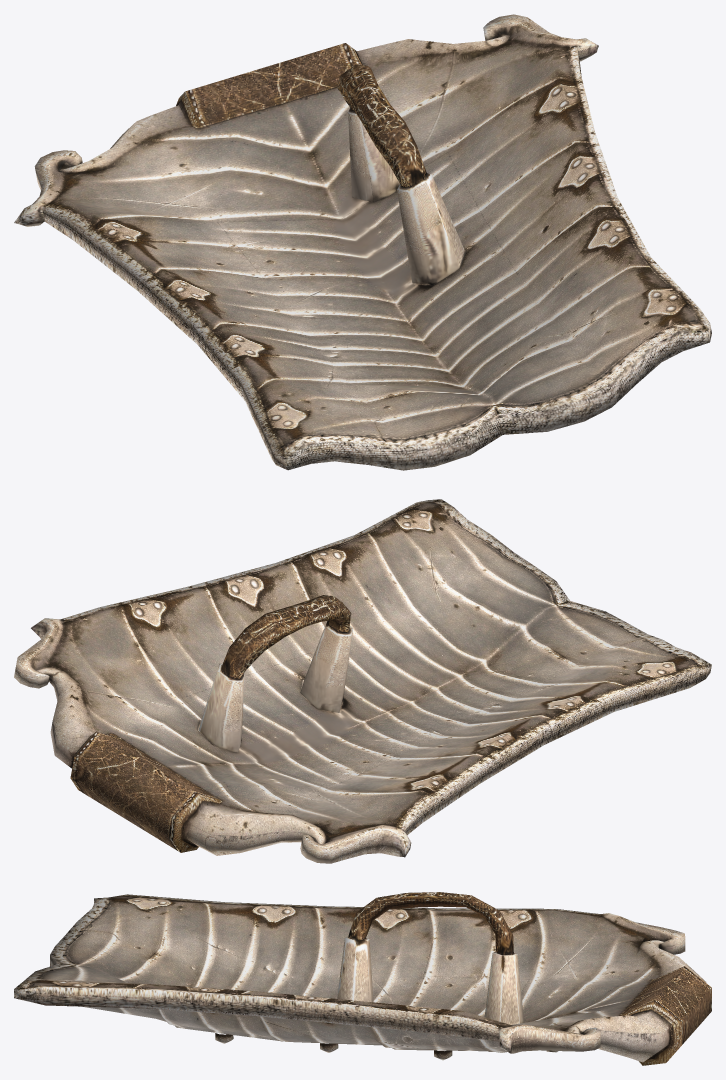
The model's file is s_steelshield_t1.glb.
3 renders of one model, top to bottom at view 1: azimuth 30°, elevation 25°; view 2: azimuth 150°, elevation 25°; view 3: azimuth 270°, elevation 25°, orthographic. The views are drawn at different scales.
Parts seen in each view (by area): view 1: Shield:2; view 2: Shield:2; view 3: Shield:2.
Boxes of the visible parts, x1=… form: Shield:2: x1=14, y1=14, x2=711, y2=470; Shield:2: x1=14, y1=499, x2=711, y2=863; Shield:2: x1=14, y1=892, x2=711, y2=1065.
Bounding box in the file's own units: 36.49 × 12.96 × 47.06.
1 material, 1 textured.
